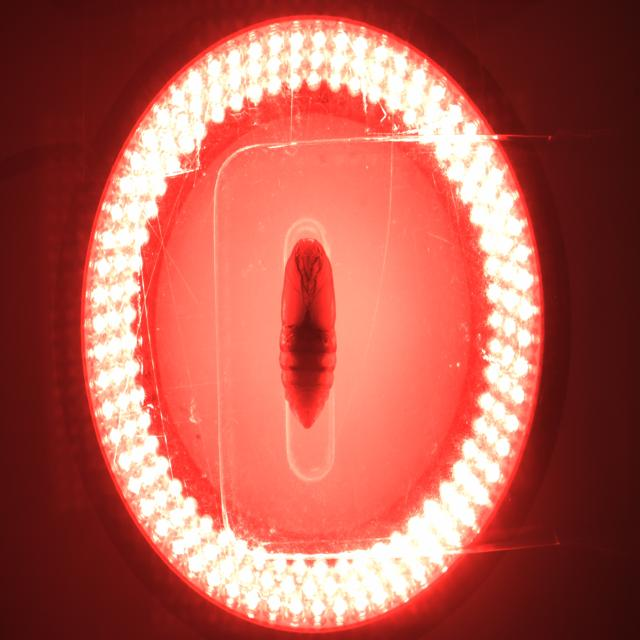female: (298, 406, 316, 426)
